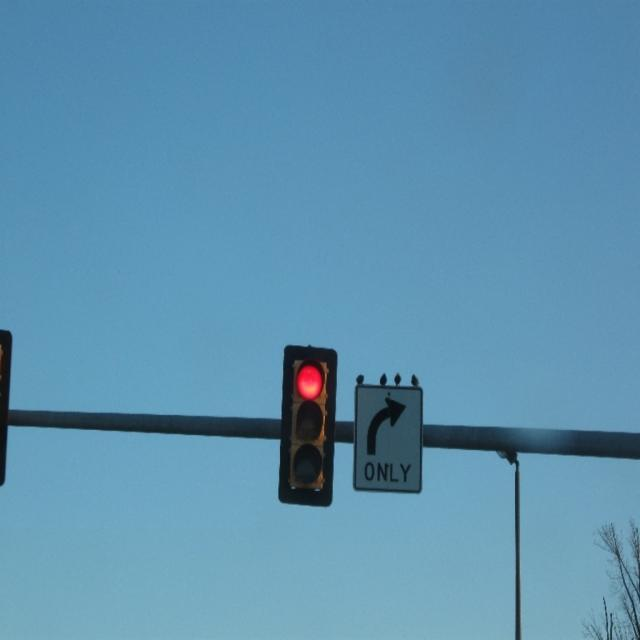traffic light: (280, 347, 337, 507)
